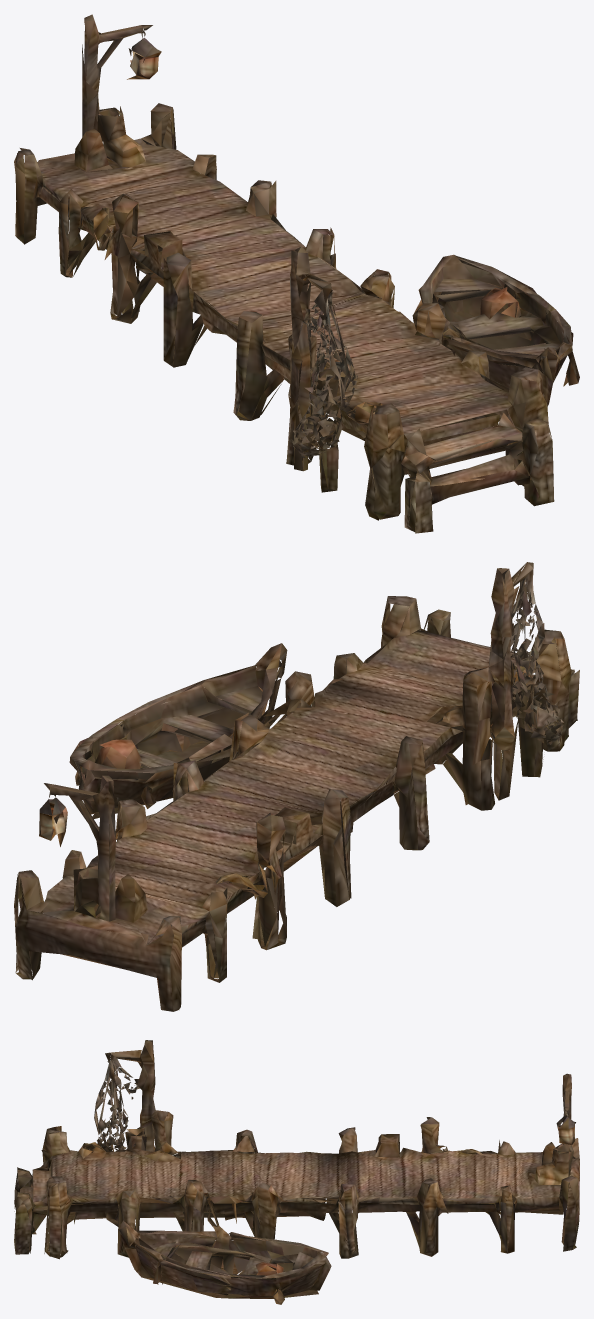
File: pier_lod1.glb
3 renders of one model, top to bottom at view 1: azimuth 30°, elevation 25°; view 2: azimuth 150°, elevation 25°; view 3: azimuth 270°, elevation 25°, orthographic. The views are drawn at different scales.
Visible parts, largest first — view 1: pier; view 2: pier; view 3: pier.
Boxes of the visible parts, x1,y1,x2,y2 form: pier: (14,14,579,533); pier: (14,562,579,1011); pier: (14,1040,579,1304).
Size of the model in its own units: 4.08 by 2.5 by 8.
Materials: 1 (1 with a texture image).
